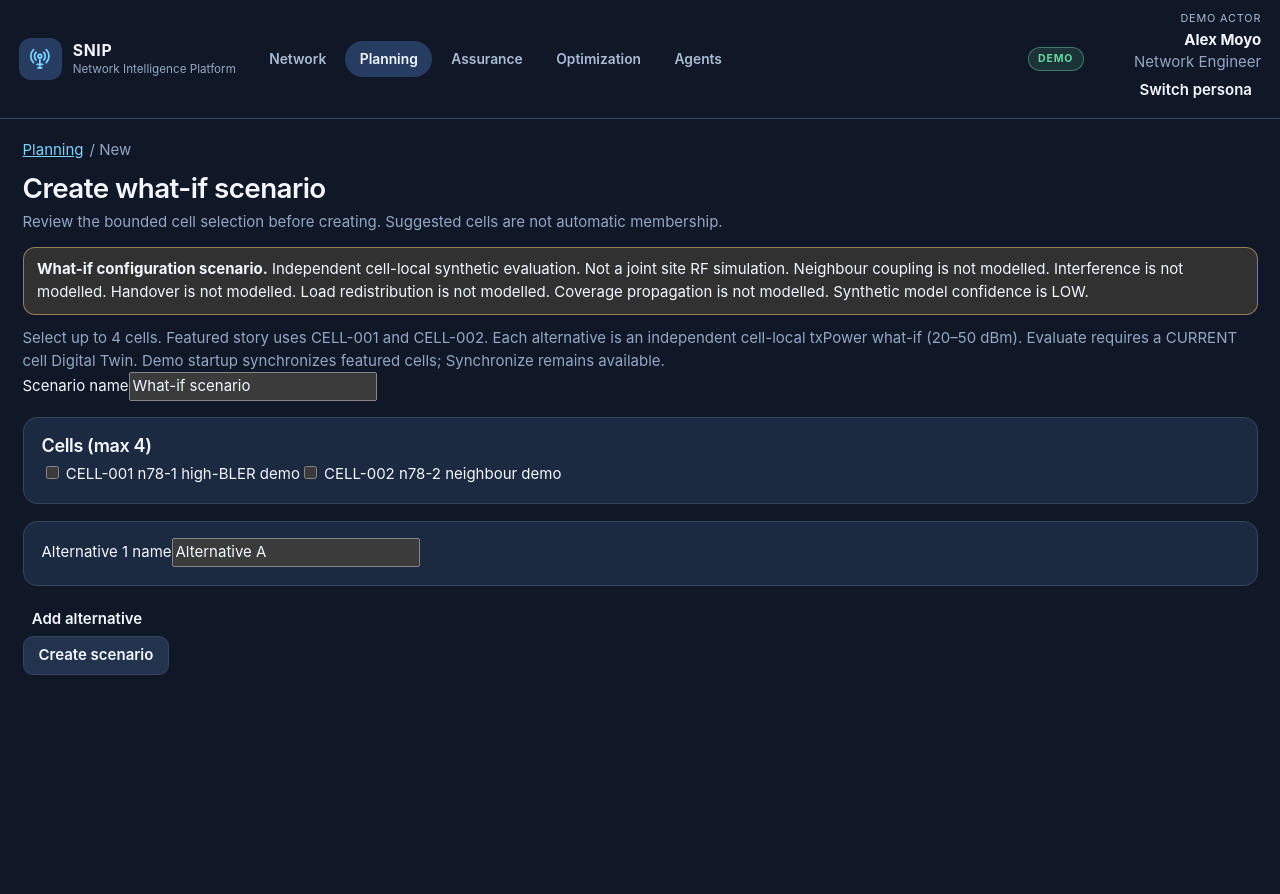
Test: Increment 7 what-if configuration scenario workspace › checking cells without editing still submits displayed txPower intents
Click the checkbox labelled "CELL-001 n78-1 high-BLER demo" at point(52, 472), box [46,466,58,479]
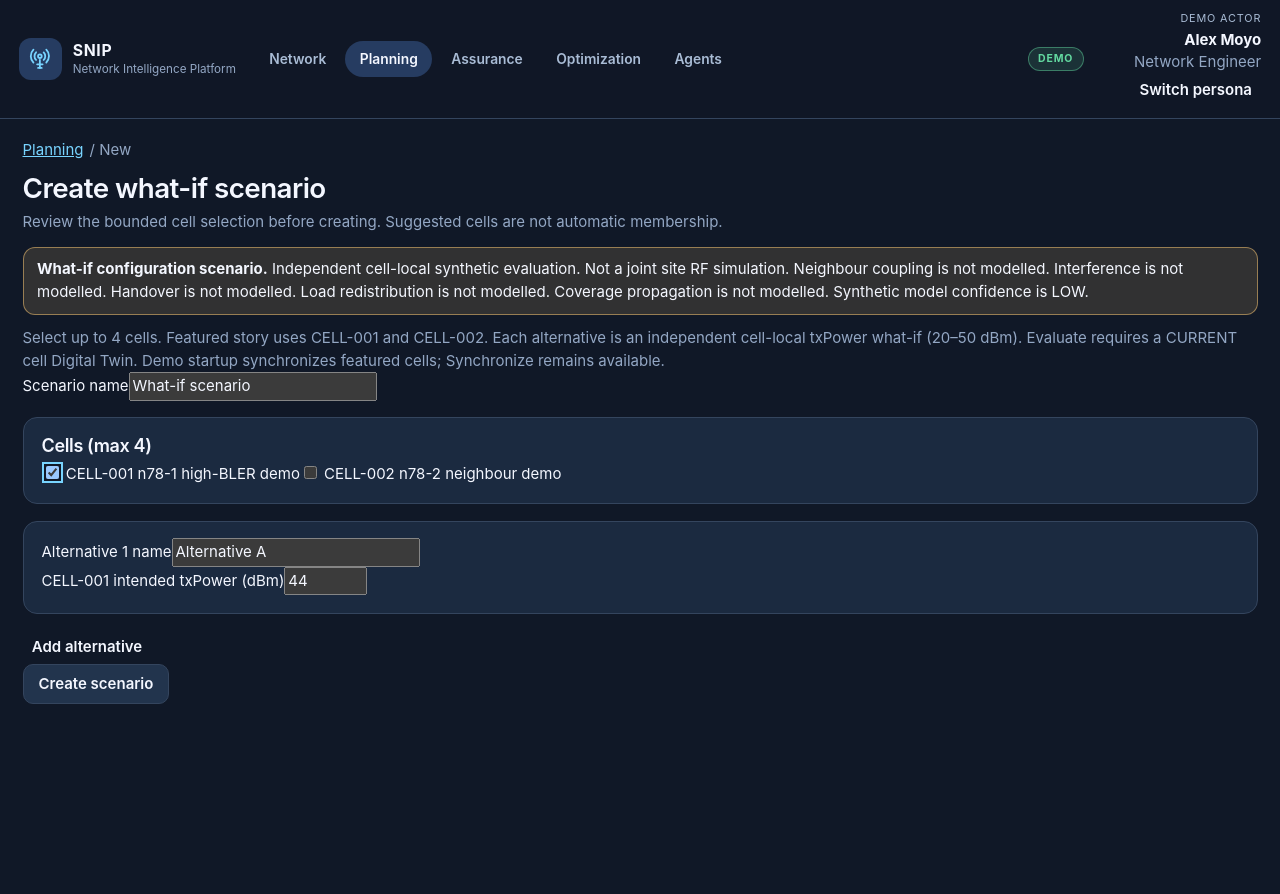
Click the checkbox labelled "CELL-002 n78-2 neighbour demo" at point(310, 472), box [304,466,317,479]
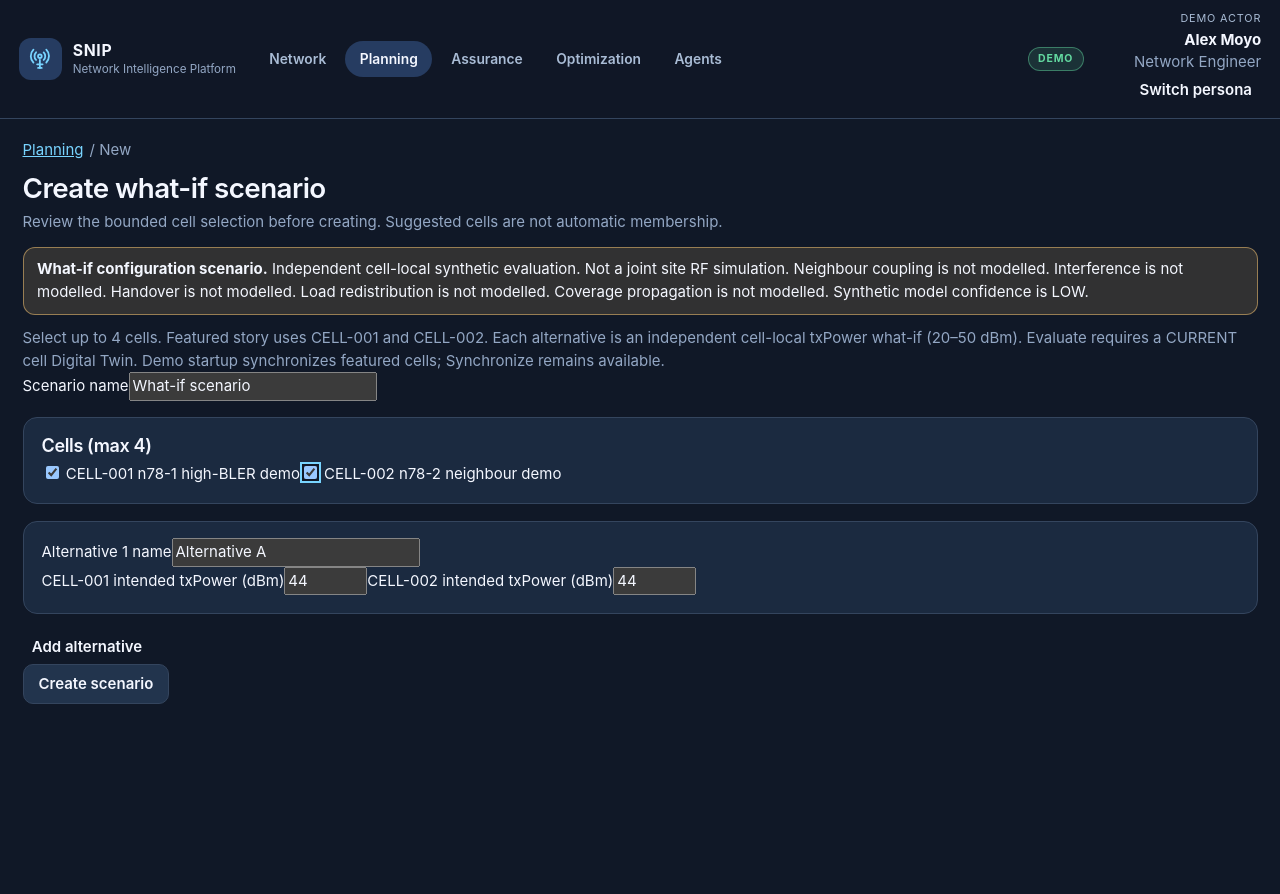
Click the button "Create scenario" at point(96, 684), box [22,664,169,704]
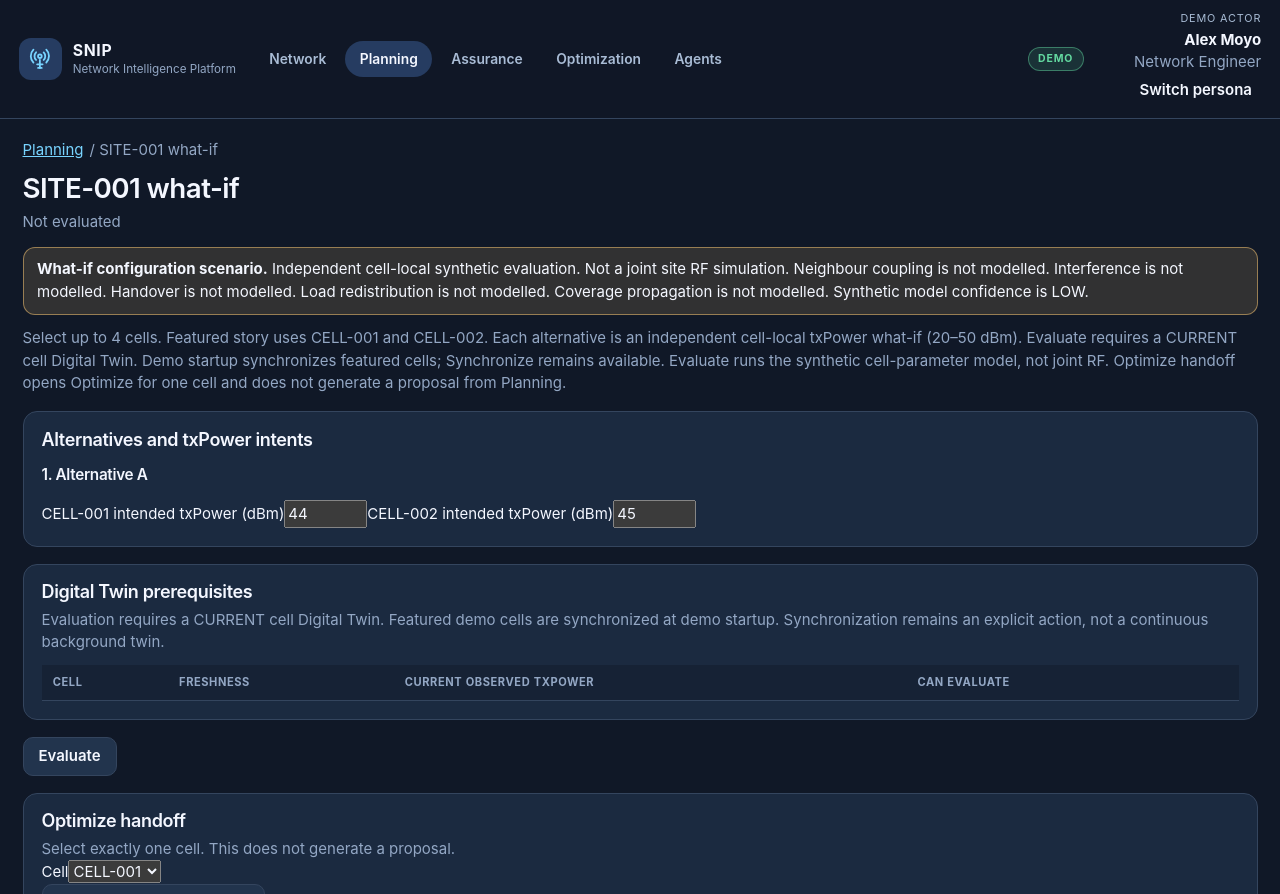
Now the heading "SITE-001 what-if" is shown, box [22,171,239,205]
